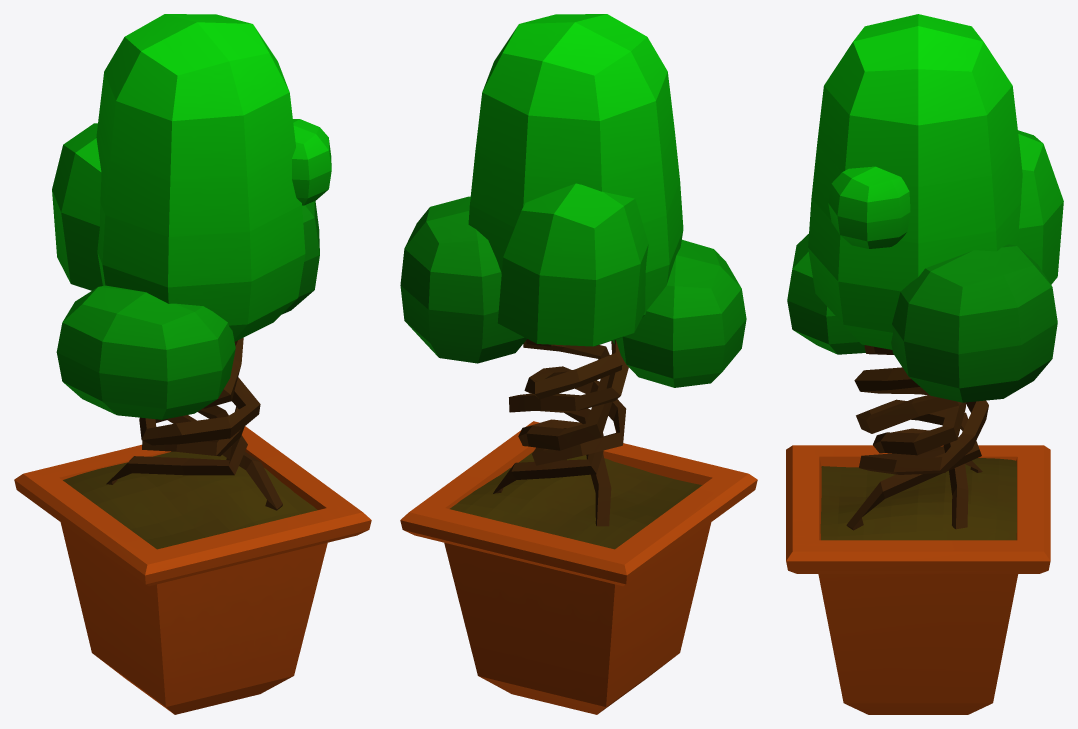
File: Planta3.fbx
The picture shows the model from 3 angles, left to right: view 1: azimuth 30°, elevation 25°; view 2: azimuth 150°, elevation 25°; view 3: azimuth 270°, elevation 25°; orthographic projection.
Visible parts, largest first — view 1: Planta3.001; view 2: Planta3.001; view 3: Planta3.001.
Boxes of the visible parts, box(x1,y1,x2,y2) form: Planta3.001: box(14, 14, 371, 714); Planta3.001: box(400, 14, 757, 714); Planta3.001: box(786, 14, 1063, 714).
Size of the model in its own units: 3.16 by 6.98 by 2.62.
Materials: 1 (1 with a texture image).
